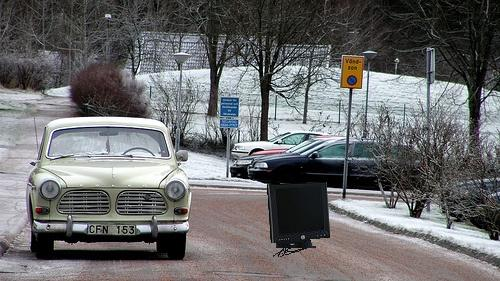tampered: (268, 183, 330, 257)
